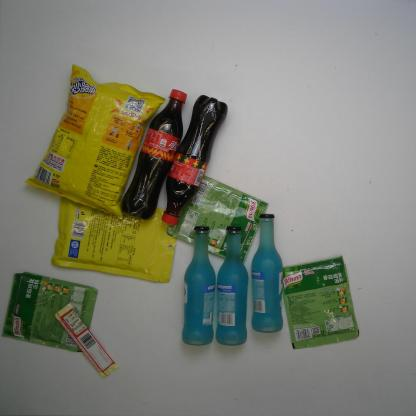Alcohol: (179, 222, 217, 348), (249, 211, 287, 333), (214, 222, 251, 347)
Chocolate: (56, 302, 117, 380)
Dried Fruit: (51, 193, 180, 284)
Drink: (120, 87, 192, 220), (159, 95, 228, 226)
Puffed Food: (22, 64, 164, 220)
Seasoner: (164, 171, 269, 267), (2, 271, 98, 353), (280, 256, 361, 350)
